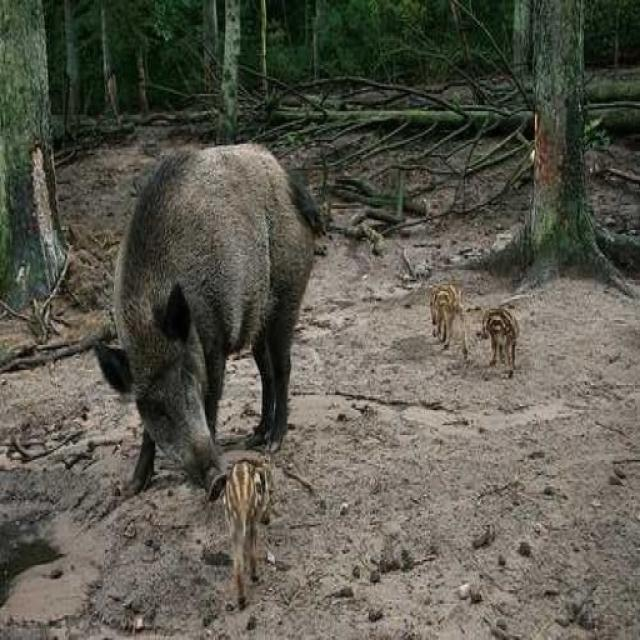pig: (72, 108, 365, 478), (207, 433, 289, 611), (412, 292, 476, 372), (477, 296, 529, 388)
